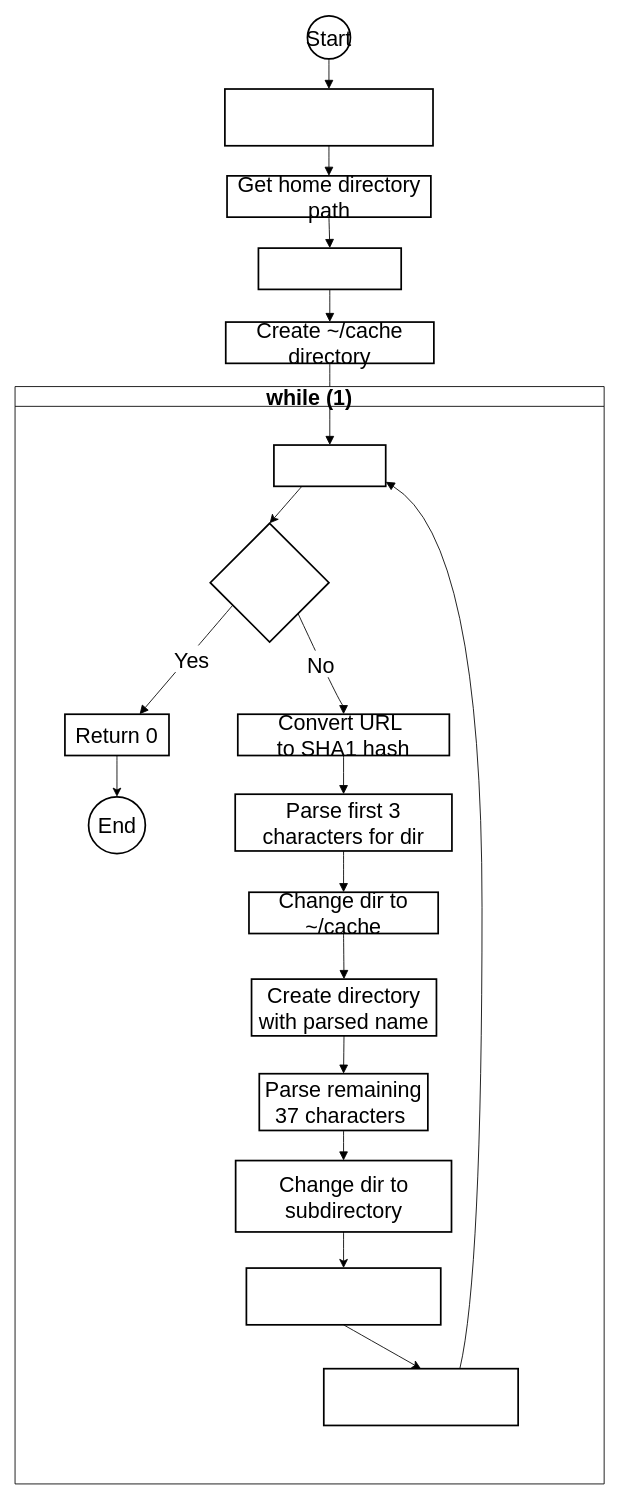
The diagram is 619 pixels wide and 1499 high, and some of its shapes have lost their labels. Here are the shapes that lost their labels. From the top down, the centre of each, then its label:
At pixel 328 117: "Set input_url, hashed_url buffer".
At pixel 329 268: "Set umask to 0".
At pixel 329 465: "Input URL".
At pixel 269 582: "Is input bye?".
At pixel 343 1296: "Check if file exists".
At pixel 420 1396: "Create file with parsed name".
